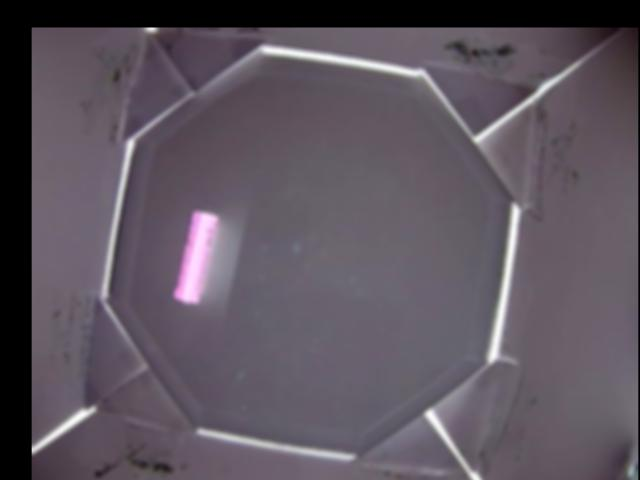Battery: (172, 209, 218, 304)
